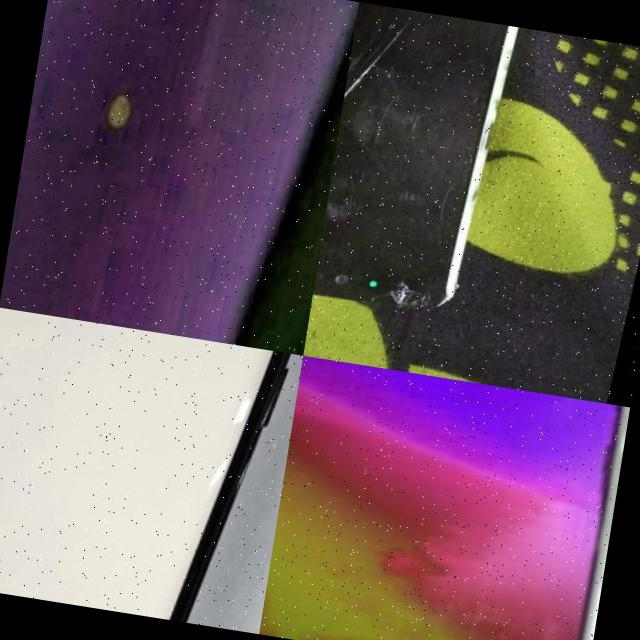dead pixel: (49, 0, 201, 224)
screen crack: (330, 364, 630, 565), (328, 2, 479, 212), (359, 257, 467, 340)
